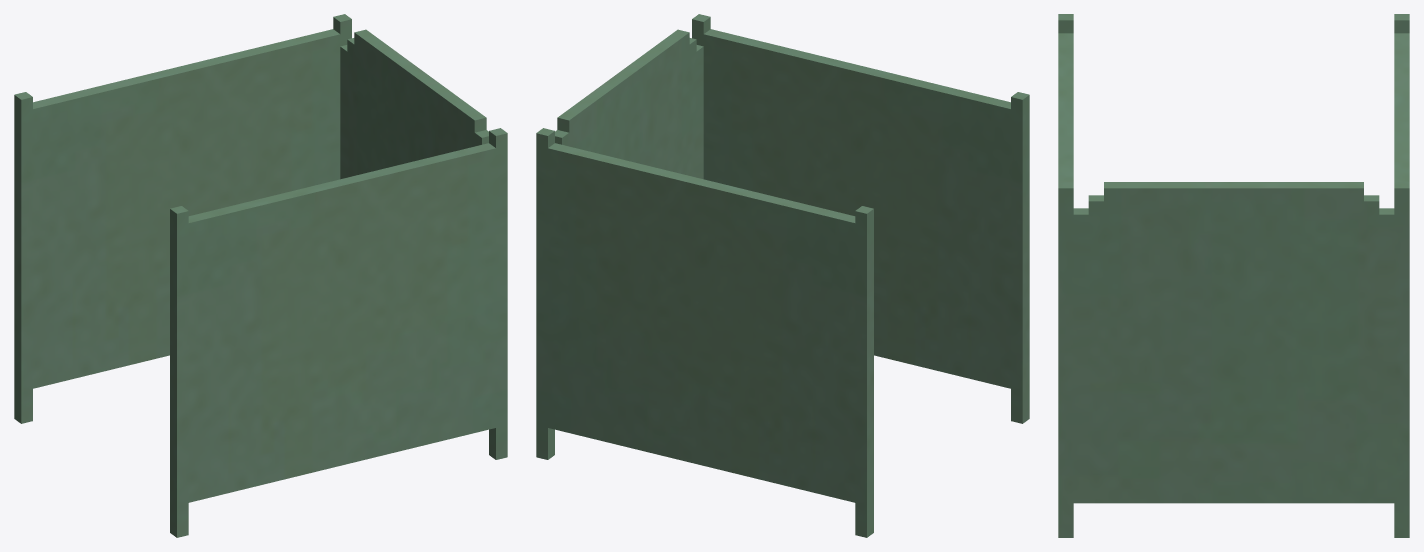
File: Bathroom Stall.fbx
3 renders of one model, left to right at view 1: azimuth 30°, elevation 25°; view 2: azimuth 150°, elevation 25°; view 3: azimuth 270°, elevation 25°, orthographic. The views are drawn at different scales.
Visible parts, largest first — view 1: Stall1; view 2: Stall1; view 3: Stall1.
Boxes of the visible parts, x1=… form: Stall1: x1=14, y1=14, x2=507, y2=537; Stall1: x1=536, y1=14, x2=1029, y2=537; Stall1: x1=1058, y1=14, x2=1409, y2=537.
Bounding box in the file's own units: 1350 × 1264 × 1152.
1 material, 1 textured.
